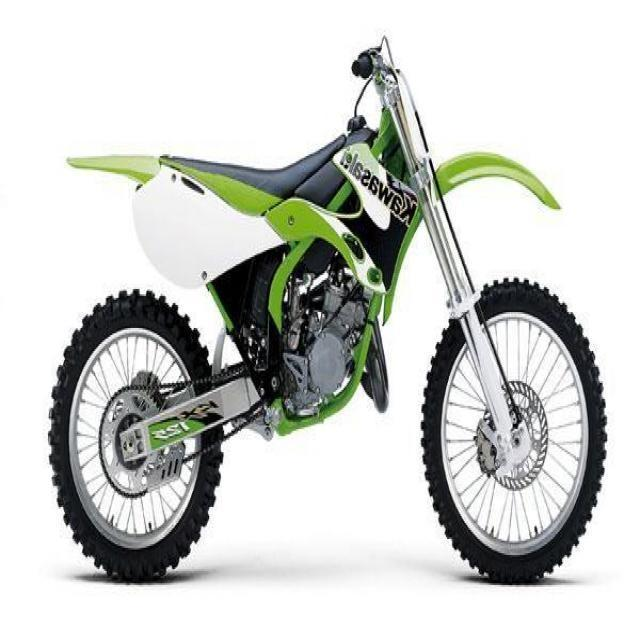Motorcycle: (41, 48, 618, 584)
